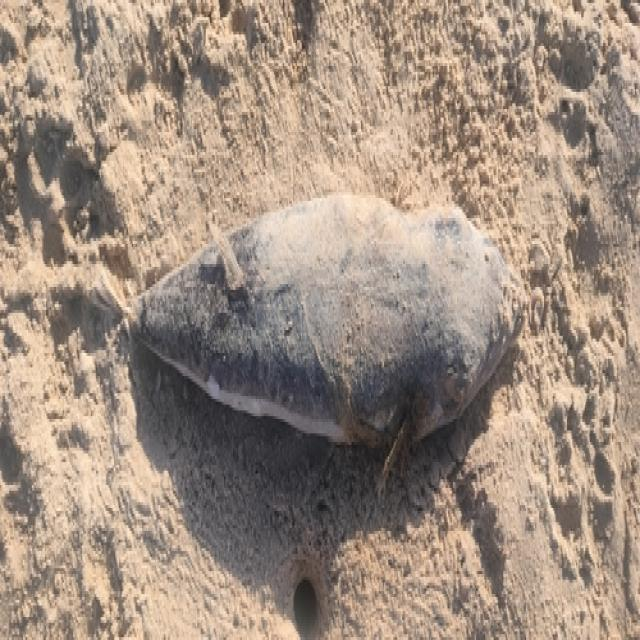Balik: (127, 196, 526, 444)
